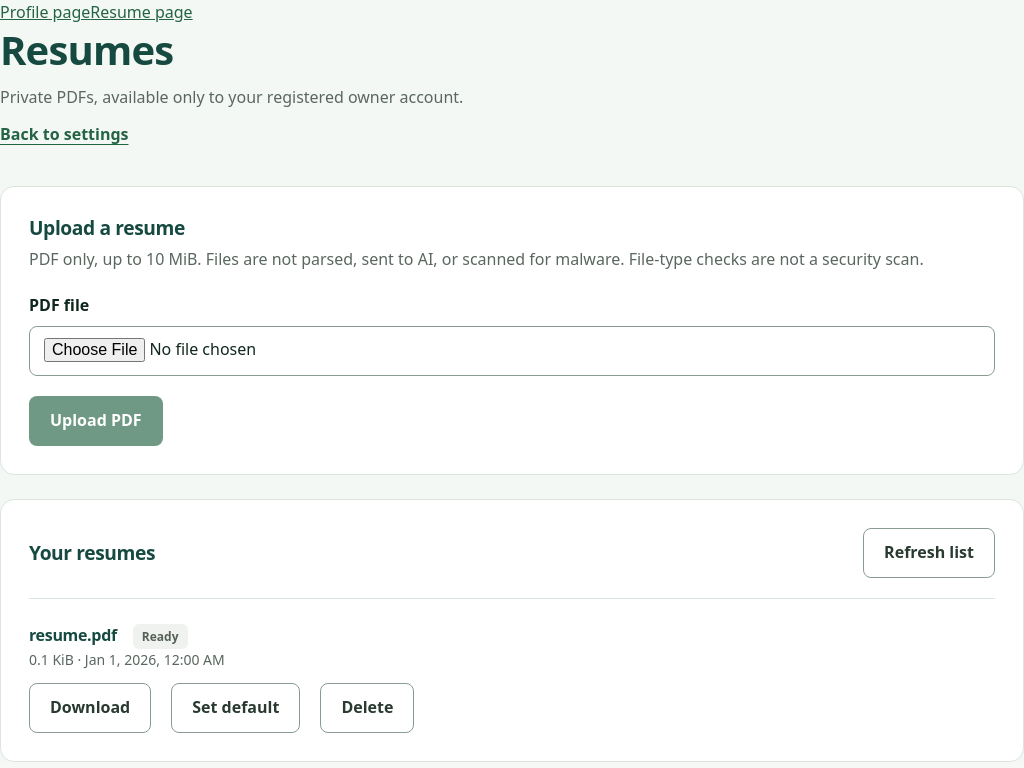
Scenario: private resume operations with mocked Supabase › shows the server-confirmed default and preserves the previous selection on failure
The width and height of the screenshot is (1024, 768).
Step 1. Click the button with aria-label "Set resume.pdf as default" → (236, 708), box x1=171 y1=683 x2=300 y2=733
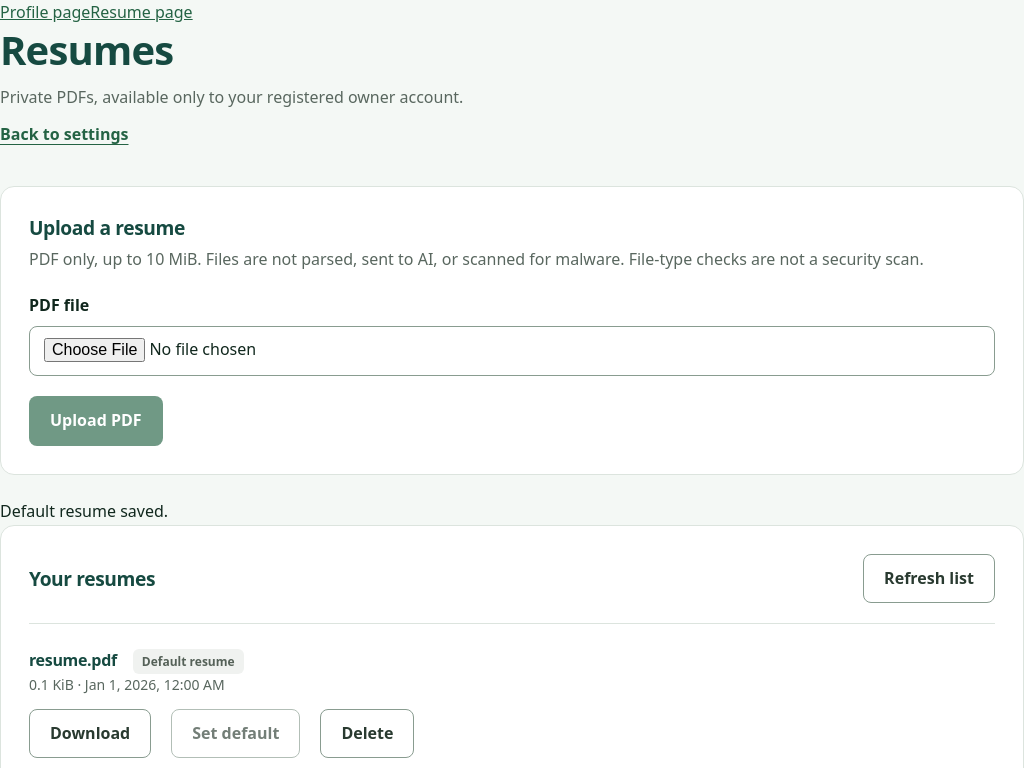
Expected: the text "Default resume" is shown, x1=133 y1=649 x2=244 y2=674
